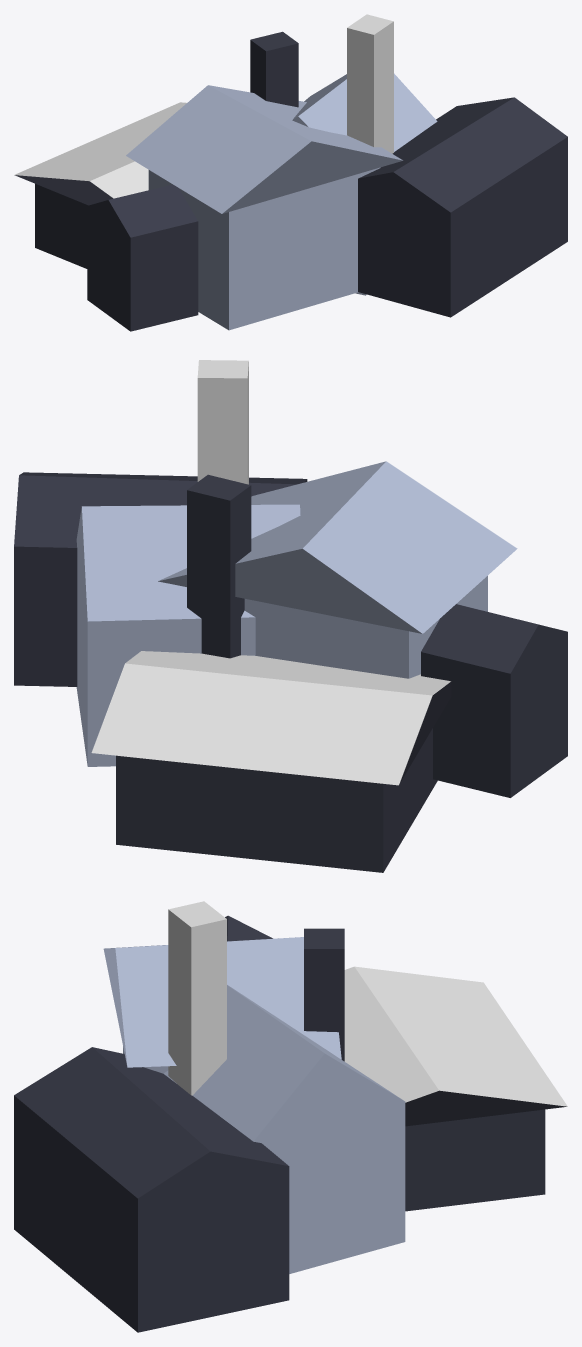
File: factory.glb
3 renders of one model, top to bottom at view 1: azimuth 30°, elevation 25°; view 2: azimuth 150°, elevation 25°; view 3: azimuth 270°, elevation 25°, orthographic. The views are drawn at different scales.
Visible parts, largest first — view 1: Cube.025, Cube.023, Cube.026, Cube.024, smokestak, Cube.022, smokestak2; view 2: Cube.024, Cube.025, Cube.026, Cube.022, Cube.023, smokestak2, smokestak; view 3: Cube.023, Cube.024, Cube.022, Cube.025, smokestak, smokestak2, Cube.026.
Boxes of the visible parts, x1,y1,x2,y2 form: Cube.025: (126,85,402,330); Cube.023: (358,97,567,317); Cube.026: (87,184,198,331); Cube.024: (14,102,186,268); smokestak: (347,14,393,153); Cube.022: (292,73,437,295); smokestak2: (250,31,298,107); Cube.024: (91,651,451,872); Cube.025: (158,461,517,678); Cube.026: (421,604,567,797); Cube.022: (76,504,300,766); Cube.023: (14,472,307,686); smokestak2: (187,474,251,658); smokestak: (197,360,248,484); Cube.023: (14,1047,289,1332); Cube.024: (344,966,567,1211); Cube.022: (163,985,405,1273); Cube.025: (103,937,341,1073); smokestak: (168,901,226,1095); smokestak2: (304,928,344,1061); Cube.026: (225,915,272,941).
Bounding box in the file's own units: 15.98 × 8.86 × 14.14.
